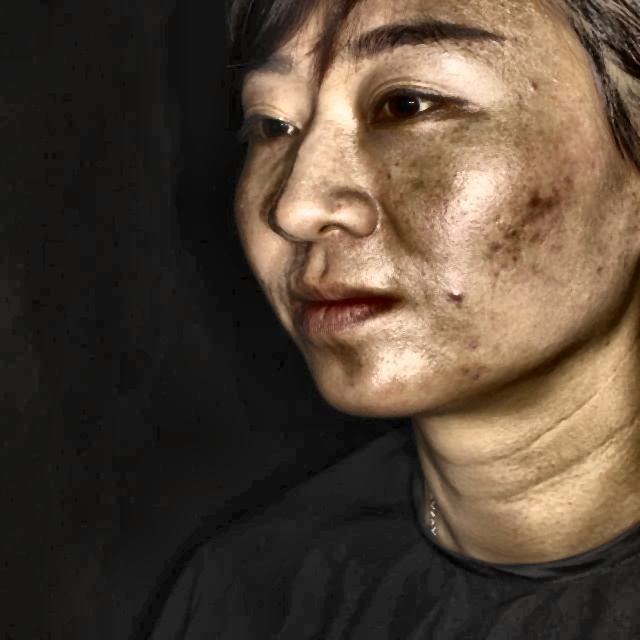comedone: (526, 185, 560, 221), (456, 363, 489, 387), (445, 282, 467, 305)
